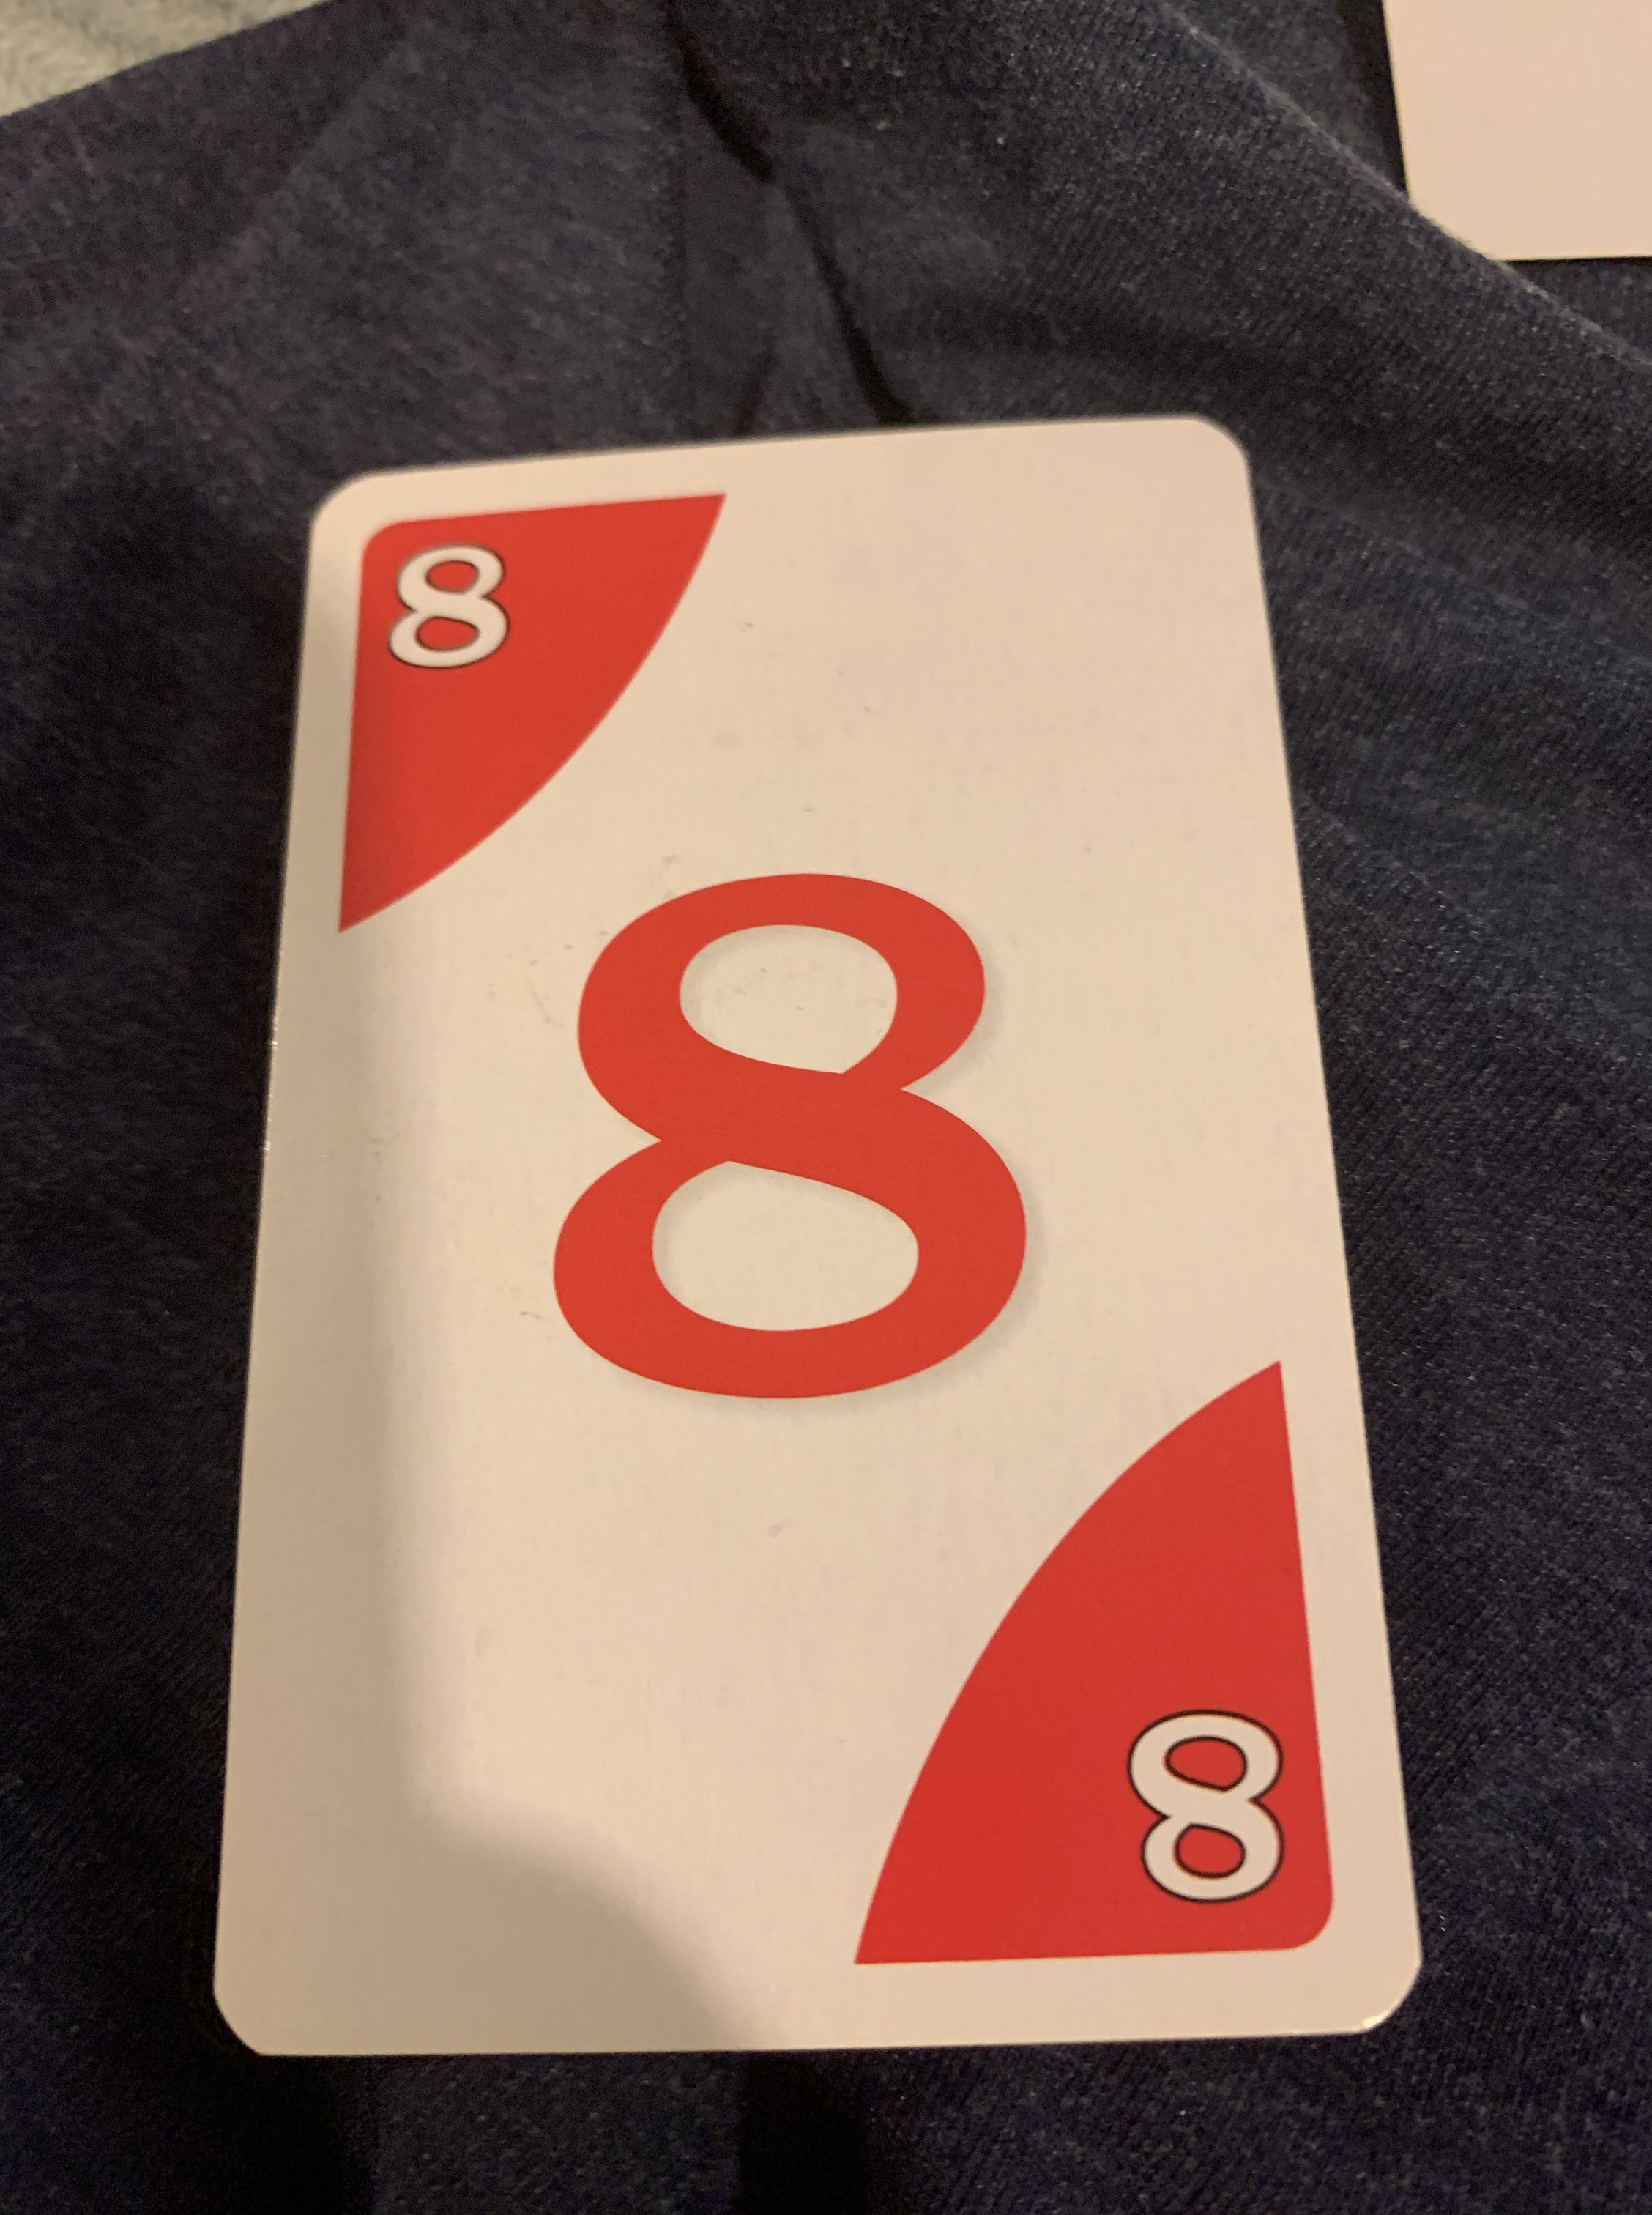eight: (201, 378, 1444, 2071)
